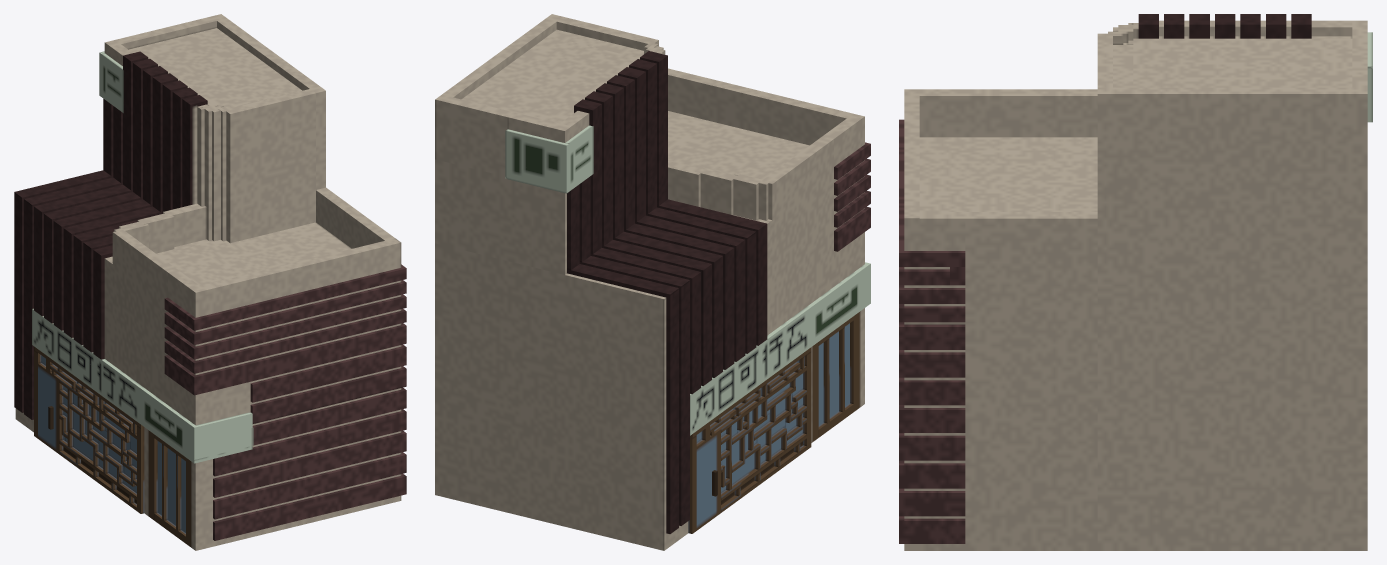
File: ch_bi_bud_resta.dae
3 views of the same model, side by side, from view 1: azimuth 30°, elevation 25°; view 2: azimuth 150°, elevation 25°; view 3: azimuth 270°, elevation 25° (orthographic). The views are drawn at different scales.
Visible parts, largest first — view 1: Content; view 2: Content; view 3: Content.
Boxes of the visible parts, x1,y1,x2,y2 form: Content: (14, 14, 406, 550); Content: (435, 14, 870, 550); Content: (899, 14, 1372, 550).
Bounding box in the file's own units: 63 × 100 × 93.
1 material, 1 textured.
